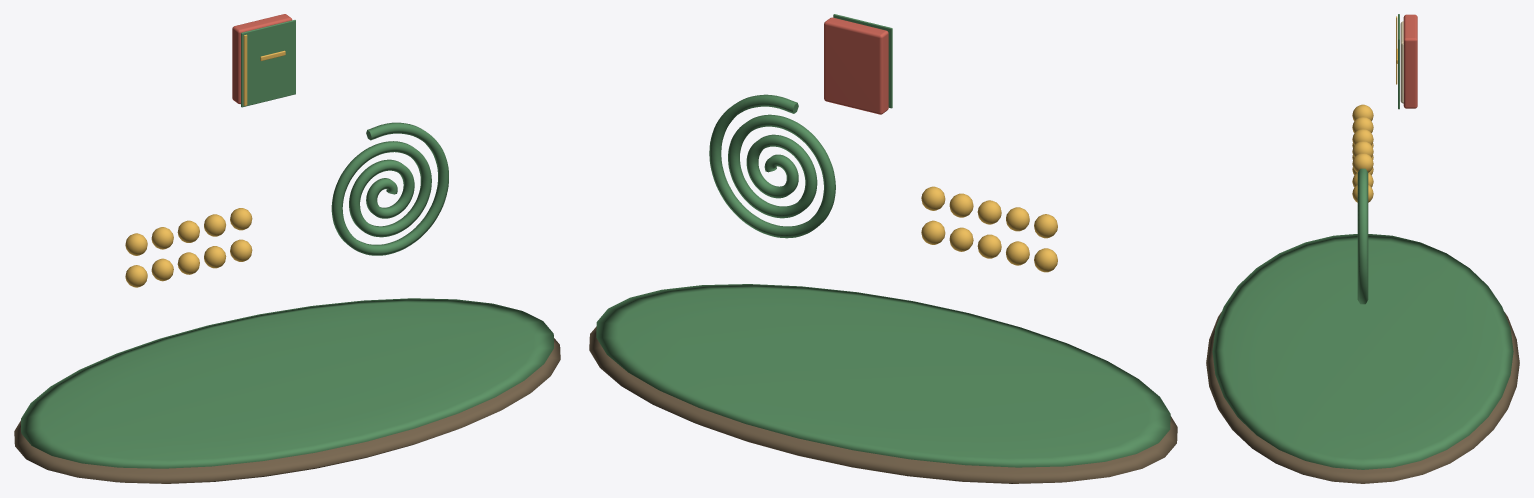
File: complete-third-total-knotted-summary.glb
The picture shows the model from 3 angles, left to right: view 1: azimuth 30°, elevation 25°; view 2: azimuth 150°, elevation 25°; view 3: azimuth 270°, elevation 25°; orthographic projection. The views are drawn at different scales.
Visible parts, largest first — view 1: complete-third-total-knotted-summary_surface_01, complete-third-total-knotted-summary_surface_00, complete-third-total-knotted-summary_surface_02, complete-third-total-knotted-summary_surface_03; view 2: complete-third-total-knotted-summary_surface_01, complete-third-total-knotted-summary_surface_00, complete-third-total-knotted-summary_surface_03, complete-third-total-knotted-summary_surface_02; view 3: complete-third-total-knotted-summary_surface_01, complete-third-total-knotted-summary_surface_00, complete-third-total-knotted-summary_surface_02, complete-third-total-knotted-summary_surface_03.
Boxes of the visible parts, x1=… form: complete-third-total-knotted-summary_surface_01: x1=21, y1=20, x2=553, y2=468; complete-third-total-knotted-summary_surface_00: x1=14, y1=338, x2=560, y2=483; complete-third-total-knotted-summary_surface_02: x1=125, y1=34, x2=285, y2=287; complete-third-total-knotted-summary_surface_03: x1=232, y1=14, x2=292, y2=104; complete-third-total-knotted-summary_surface_01: x1=596, y1=14, x2=1170, y2=467; complete-third-total-knotted-summary_surface_00: x1=589, y1=326, x2=1177, y2=483; complete-third-total-knotted-summary_surface_03: x1=824, y1=17, x2=888, y2=114; complete-third-total-knotted-summary_surface_02: x1=921, y1=186, x2=1057, y2=272; complete-third-total-knotted-summary_surface_01: x1=1212, y1=14, x2=1513, y2=469; complete-third-total-knotted-summary_surface_00: x1=1206, y1=312, x2=1519, y2=483; complete-third-total-knotted-summary_surface_02: x1=1352, y1=16, x2=1397, y2=202; complete-third-total-knotted-summary_surface_03: x1=1403, y1=14, x2=1417, y2=108.
Bounding box in the file's own units: 4.56 × 3.09 × 2.5.
